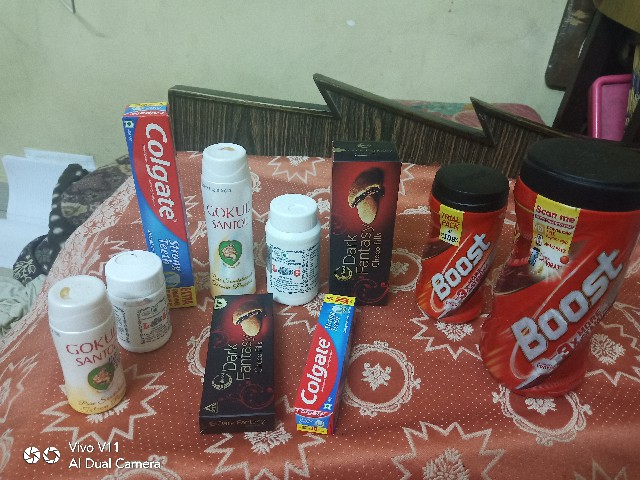boost big: (480, 148, 634, 396)
boost small: (413, 147, 502, 322)
colgatetoothpaste big: (106, 95, 196, 310)
colgatetoothpaste small: (284, 290, 358, 445)
darkfantasy big: (326, 138, 412, 308)
darkfantasy small: (198, 294, 275, 437)
gokulsantol big: (198, 134, 254, 294)
gokulsantol small: (39, 275, 122, 416)
lgasafoetidapowder large: (261, 185, 319, 304)
lgasafoetidapowder small: (102, 248, 172, 353)
